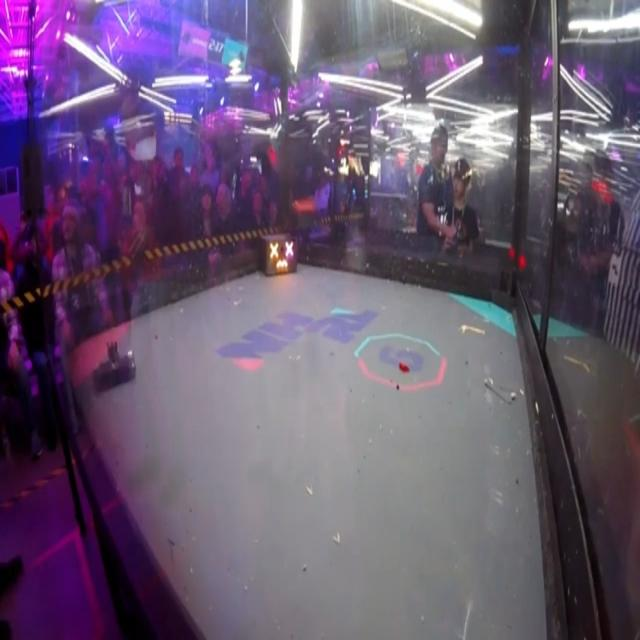brick: (256, 229, 300, 278)
